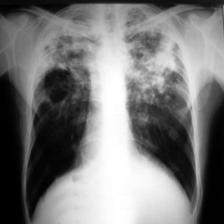tuberculosis: (18, 3, 202, 224)
